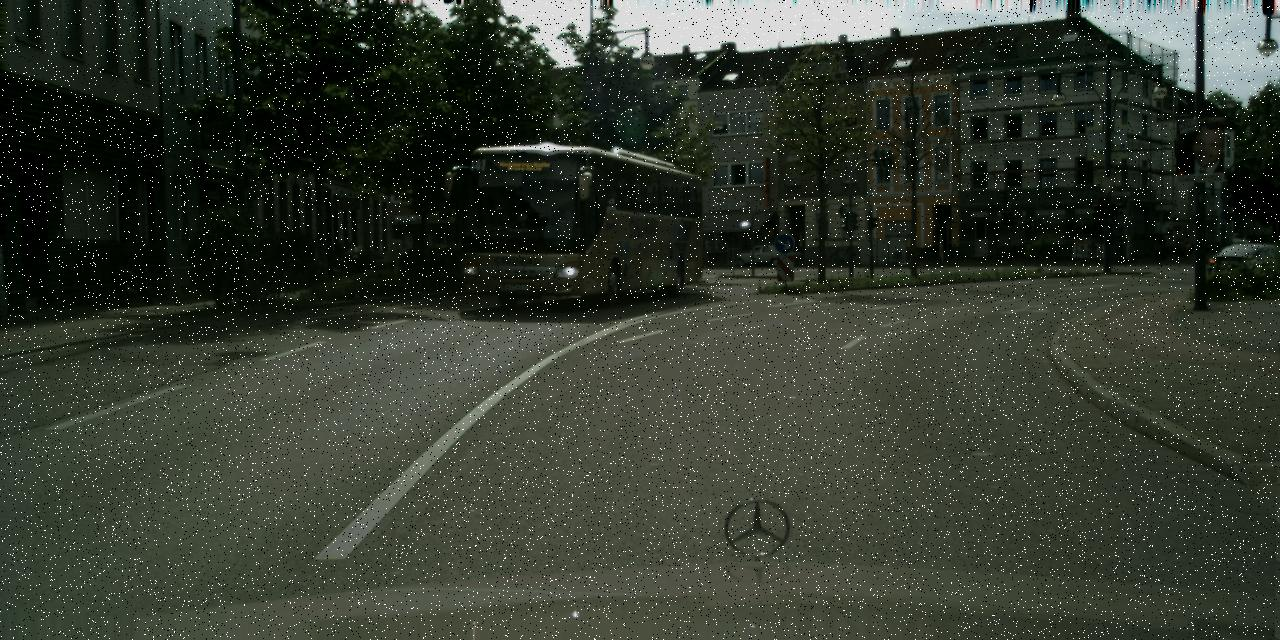ped: (1089, 237, 1099, 262)
